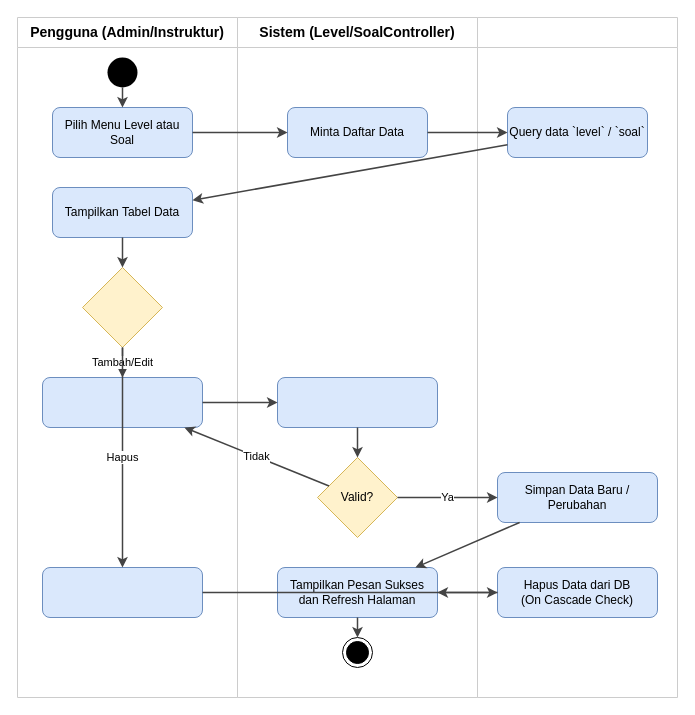
This 695x715 diagram has some shape labels left out. The box of each missing label's shape, as (x1, y1, x2, y2) in pixels:
Database (MySQL): (476, 16, 678, 698)
Isi Form Data Baru / Ubah dan Klik Simpan: (42, 376, 202, 428)
Pilih Aksi?: (82, 266, 162, 348)
Pilih Hapus & Konfirmasi: (42, 566, 202, 618)
Validasi Input Form (Valid / Tidak): (276, 376, 438, 428)
